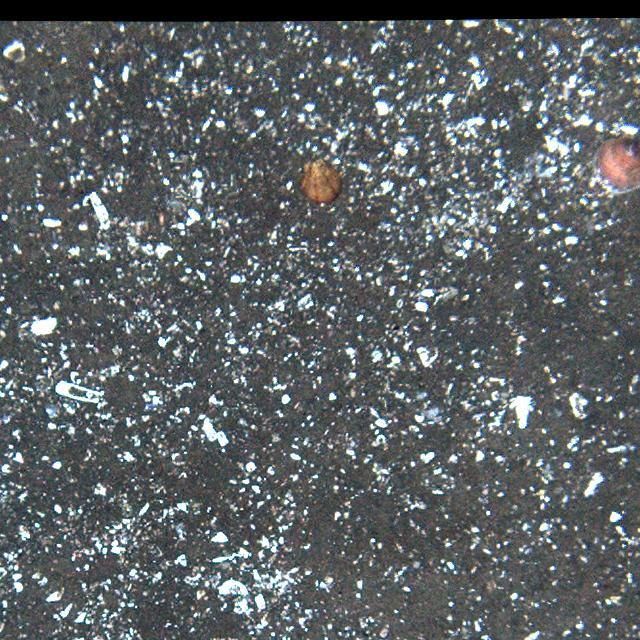scallop: (590, 132, 640, 198), (295, 154, 346, 202)
